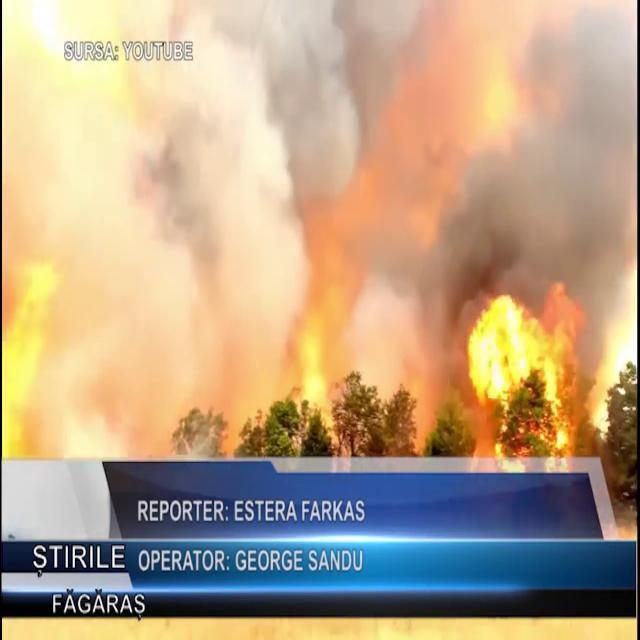Fire: (454, 271, 632, 463)
Smoke: (10, 1, 632, 432)
